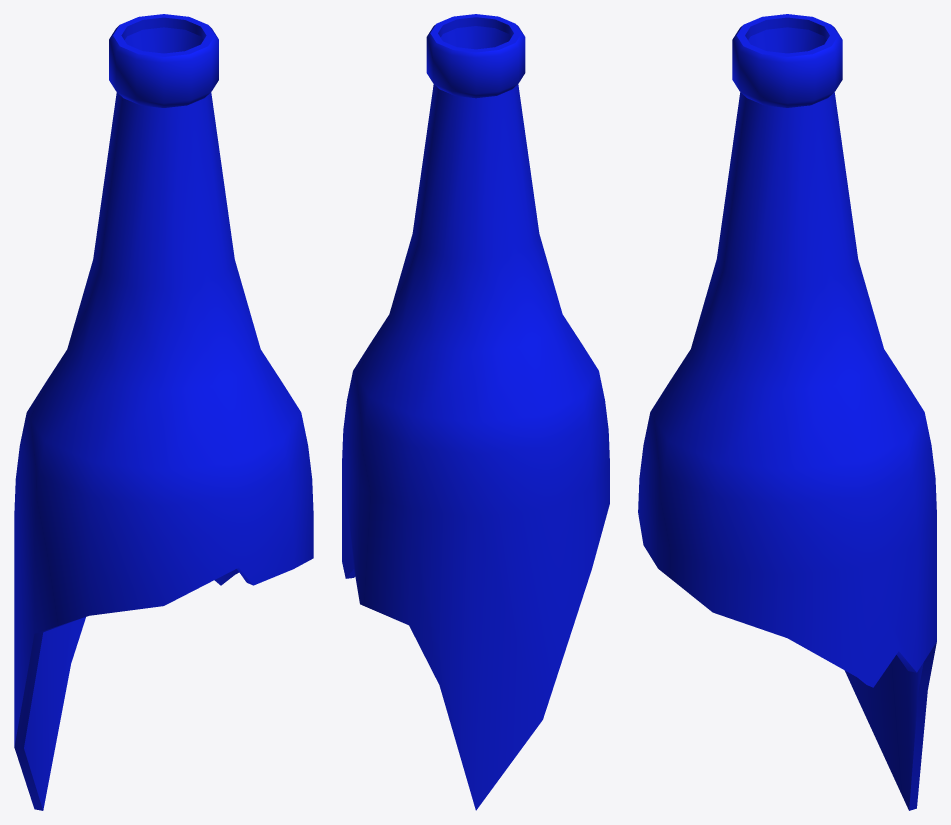
Rendered from bottle_crash.FBX.
The picture shows the model from 3 angles, left to right: view 1: azimuth 30°, elevation 25°; view 2: azimuth 150°, elevation 25°; view 3: azimuth 270°, elevation 25°; orthographic projection. The views are drawn at different scales.
Parts seen in each view (by area): view 1: bottle_crash; view 2: bottle_crash; view 3: bottle_crash.
Boxes of the visible parts, x1,y1,x2,y2 form: bottle_crash: (14, 14, 313, 810); bottle_crash: (342, 14, 609, 810); bottle_crash: (638, 14, 936, 810).
Bounding box in the file's own units: 6.29 × 18.67 × 6.29.
